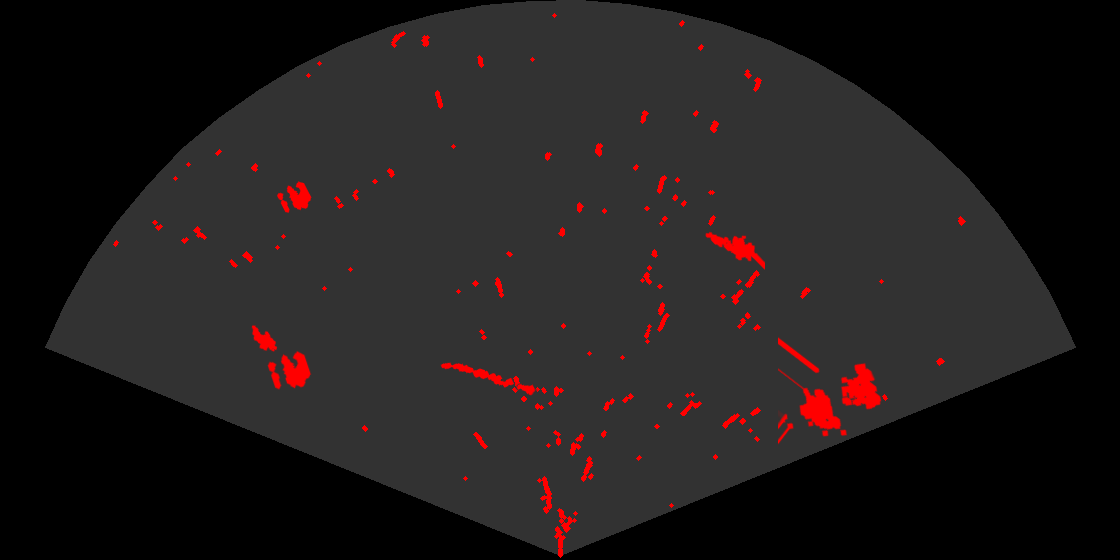AUV: (250, 324, 279, 353)
ball: (266, 349, 313, 391), (275, 180, 313, 214)
cage: (778, 335, 883, 446)
chain: (439, 361, 538, 397)
frogman: (704, 230, 765, 271)
